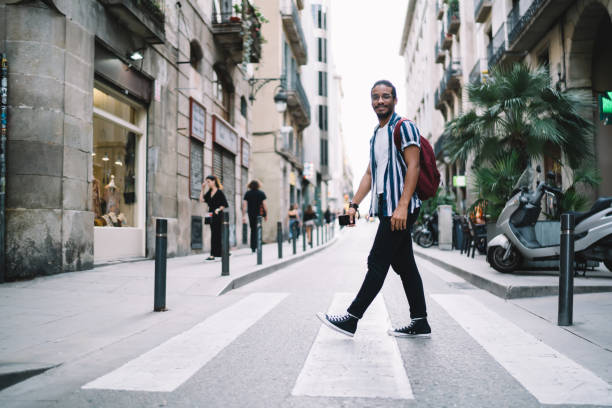yaya: (326, 61, 452, 352), (189, 165, 246, 270)
